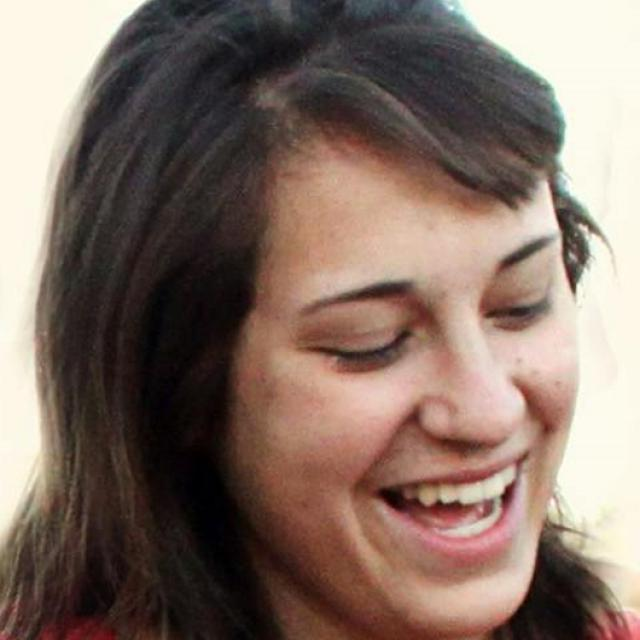close: (272, 264, 424, 388), (465, 212, 575, 366)
